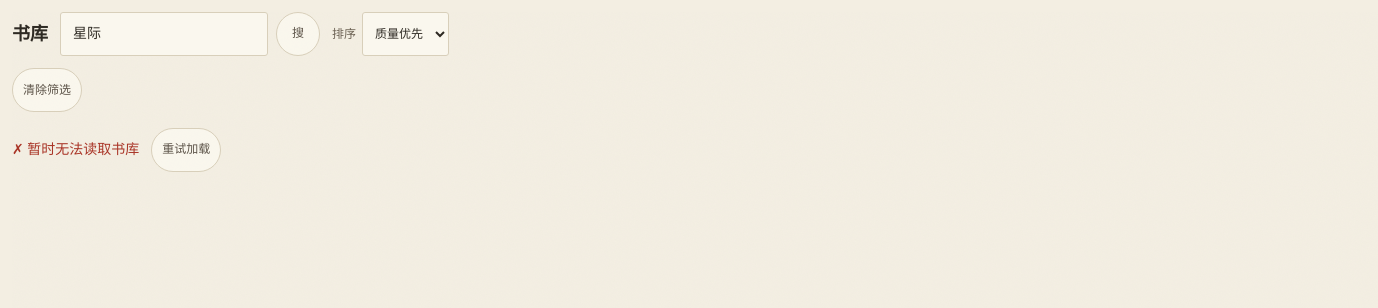
Test: 书库加载失败恢复 › 首次加载失败后可原条件重试，加载期间不会重复提交
The width and height of the screenshot is (1378, 308).
Expected: the message shows "暂时无法读取书库", [27,142,139,157]
Click the button "重试加载" at (186, 150), box [151,128,221,172]
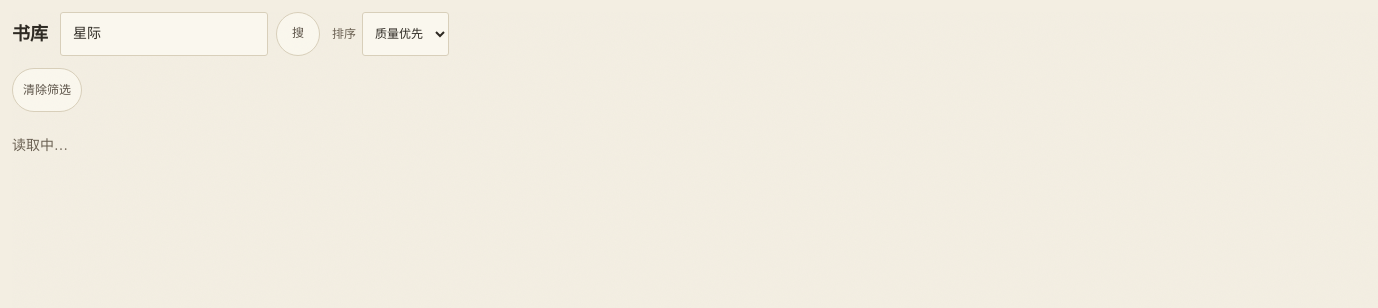
Result: the text "读取中…" is shown at [12,138,68,153]
Click the button "搜" at (298, 34), box [276,12,320,56]
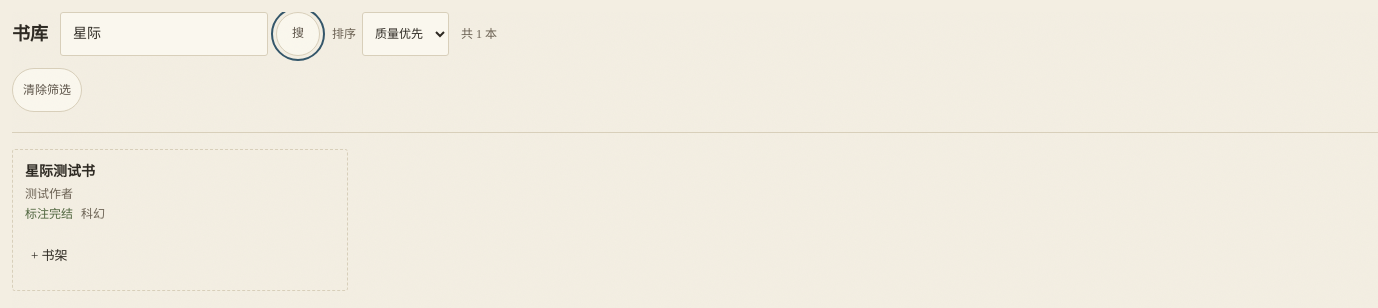
Expected: the field named "书库搜索" holds "星际", [60,12,268,56]
Result: the button with aria-label "查看星际测试书详情" is shown at [13,150,346,234]
Result: the message "读取中…" is gone
